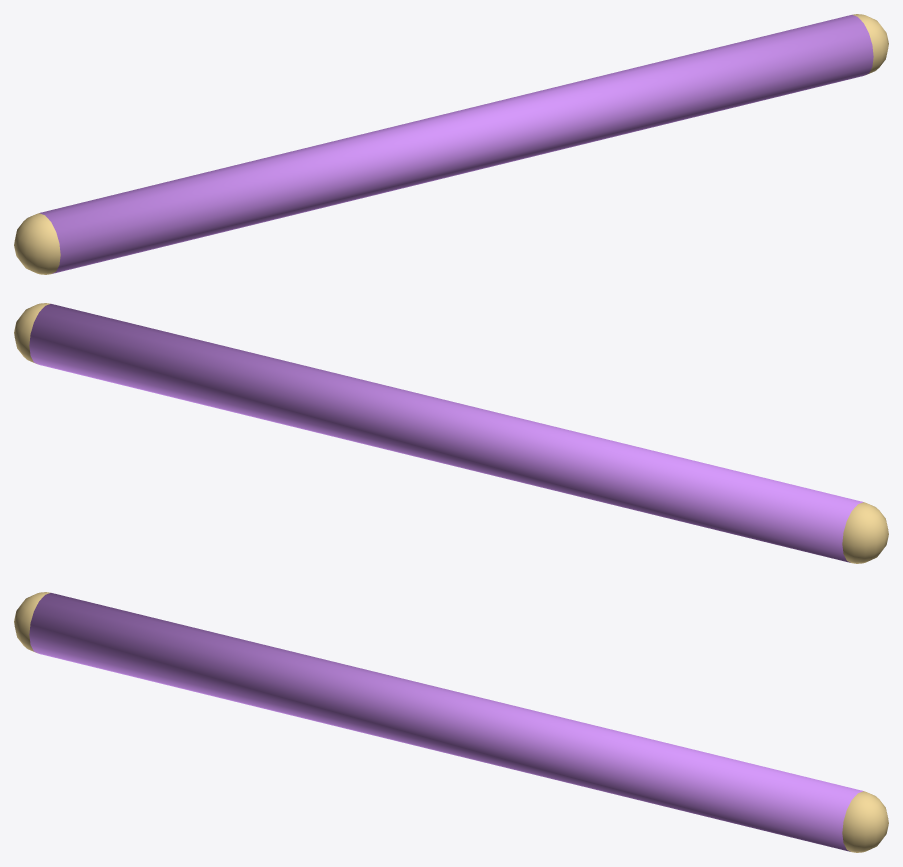
File: long-pin-DO8NyJ4W.glb
3 views of the same model, one above another, from view 1: azimuth 30°, elevation 25°; view 2: azimuth 150°, elevation 25°; view 3: azimuth 330°, elevation 25° (orthographic).
Parts seen in each view (by area): view 1: R3D_long-pin_Body_0, R3D_long-pin_Tip_0, R3D_long-pin_Tip_1; view 2: R3D_long-pin_Body_0, R3D_long-pin_Tip_0, R3D_long-pin_Tip_1; view 3: R3D_long-pin_Body_0, R3D_long-pin_Tip_1, R3D_long-pin_Tip_0.
Part boxes in pixels (x1=…): R3D_long-pin_Body_0: x1=39, y1=15, x2=873, y2=273; R3D_long-pin_Tip_0: x1=14, y1=213, x2=60, y2=274; R3D_long-pin_Tip_1: x1=852, y1=14, x2=888, y2=74; R3D_long-pin_Body_0: x1=29, y1=304, x2=863, y2=562; R3D_long-pin_Tip_0: x1=842, y1=502, x2=888, y2=563; R3D_long-pin_Tip_1: x1=14, y1=303, x2=50, y2=363; R3D_long-pin_Body_0: x1=29, y1=593, x2=863, y2=851; R3D_long-pin_Tip_1: x1=842, y1=791, x2=888, y2=852; R3D_long-pin_Tip_0: x1=14, y1=592, x2=50, y2=652.
Size of the model in its own units: 3.84 by 0.24 by 0.24.
